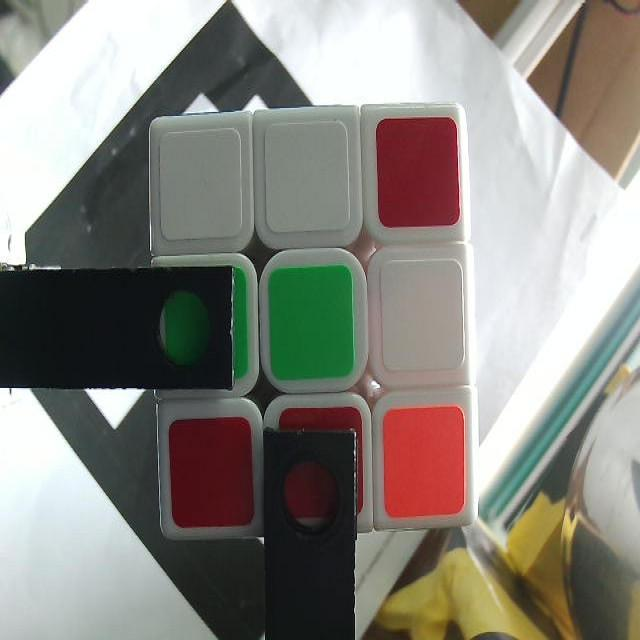g: (163, 268, 251, 382), (268, 266, 352, 378)
o: (382, 402, 470, 515)
r: (377, 112, 460, 232), (278, 408, 366, 520), (168, 420, 254, 526)
w: (266, 116, 353, 231), (378, 260, 466, 366), (158, 130, 243, 236)
